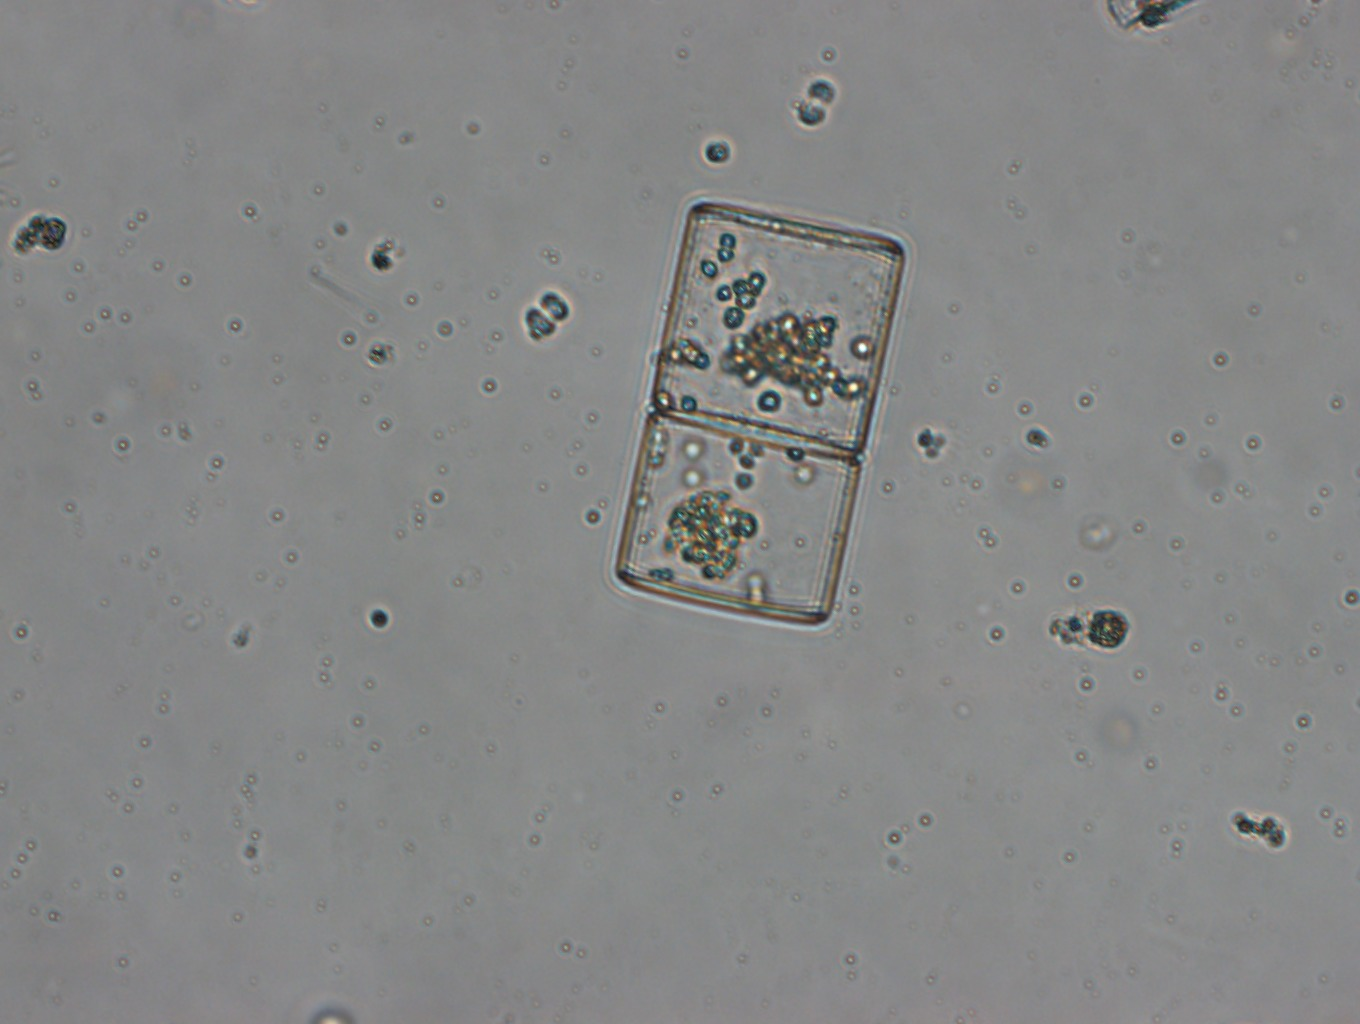guinardia flaccida: (609, 201, 907, 634)
